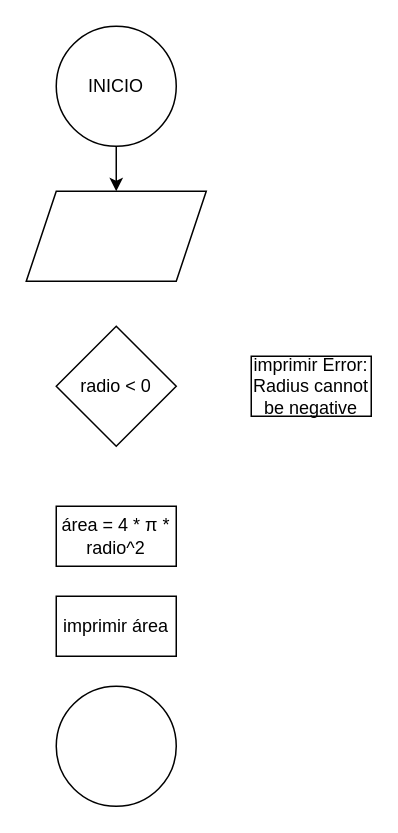
Image size: 398x833. Some labels were removed from this diagram. The shapes that lost their labels are listed below. From the top down, each one's centre as x and y in pixels, then its label:
At pixel 115 235: "INPUT radio".
At pixel 115 745: "FIN".
